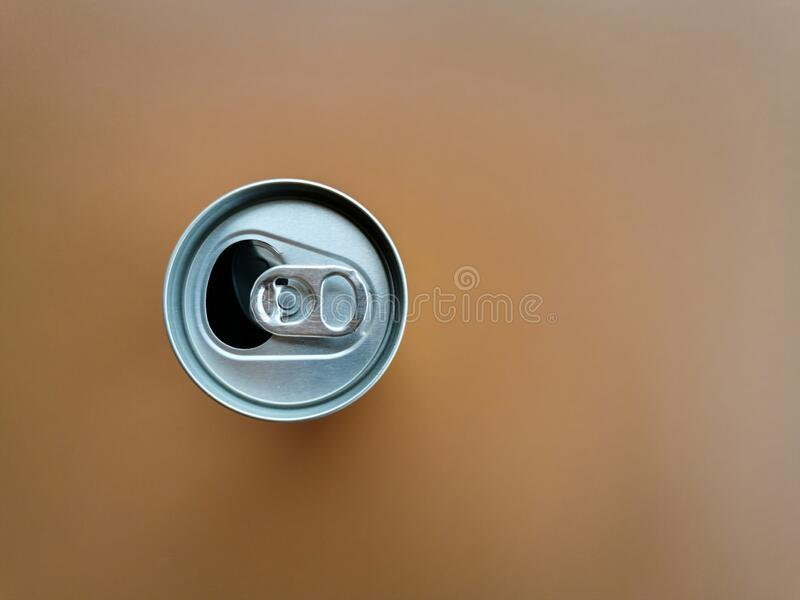can: (154, 173, 421, 429)
